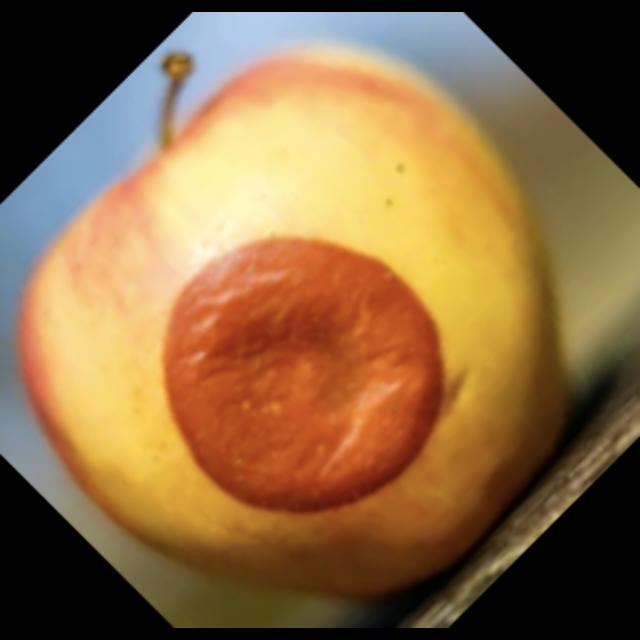Apel Tidak Segar: (11, 39, 582, 613)
